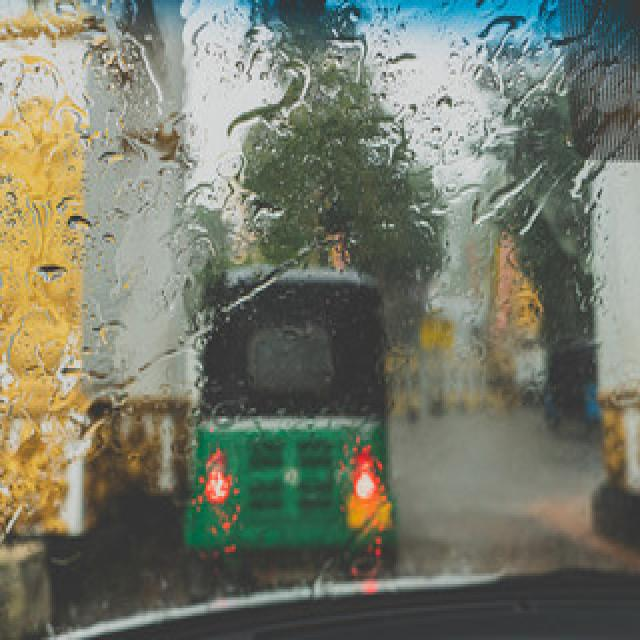three wheeler: (184, 269, 394, 573)
